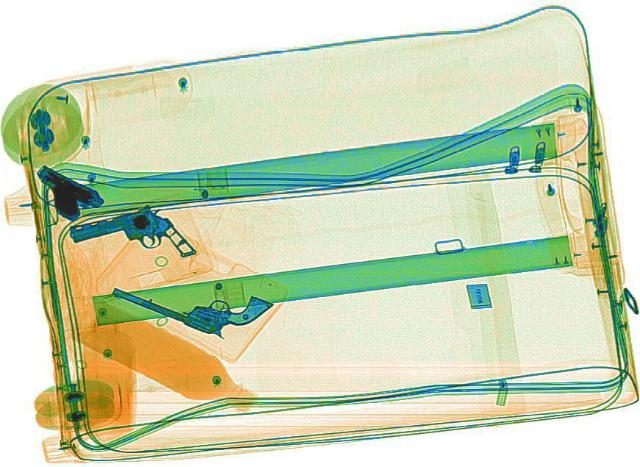Gun: (107, 250, 273, 342), (61, 196, 197, 277), (15, 158, 110, 225)
